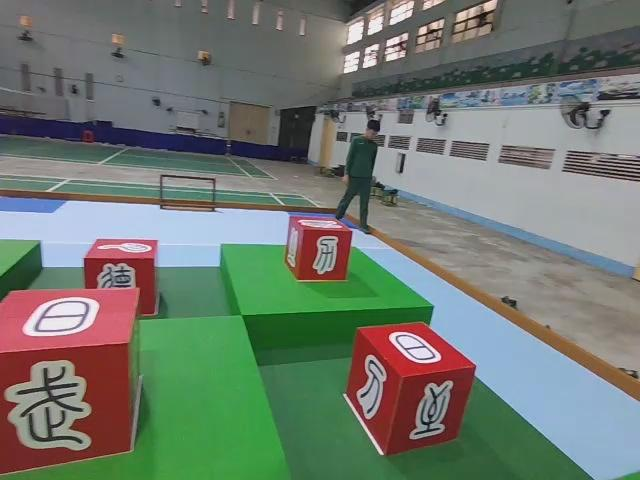R2 Fake: (0, 283, 144, 480), (345, 320, 478, 458), (81, 235, 160, 319), (284, 211, 354, 282)
